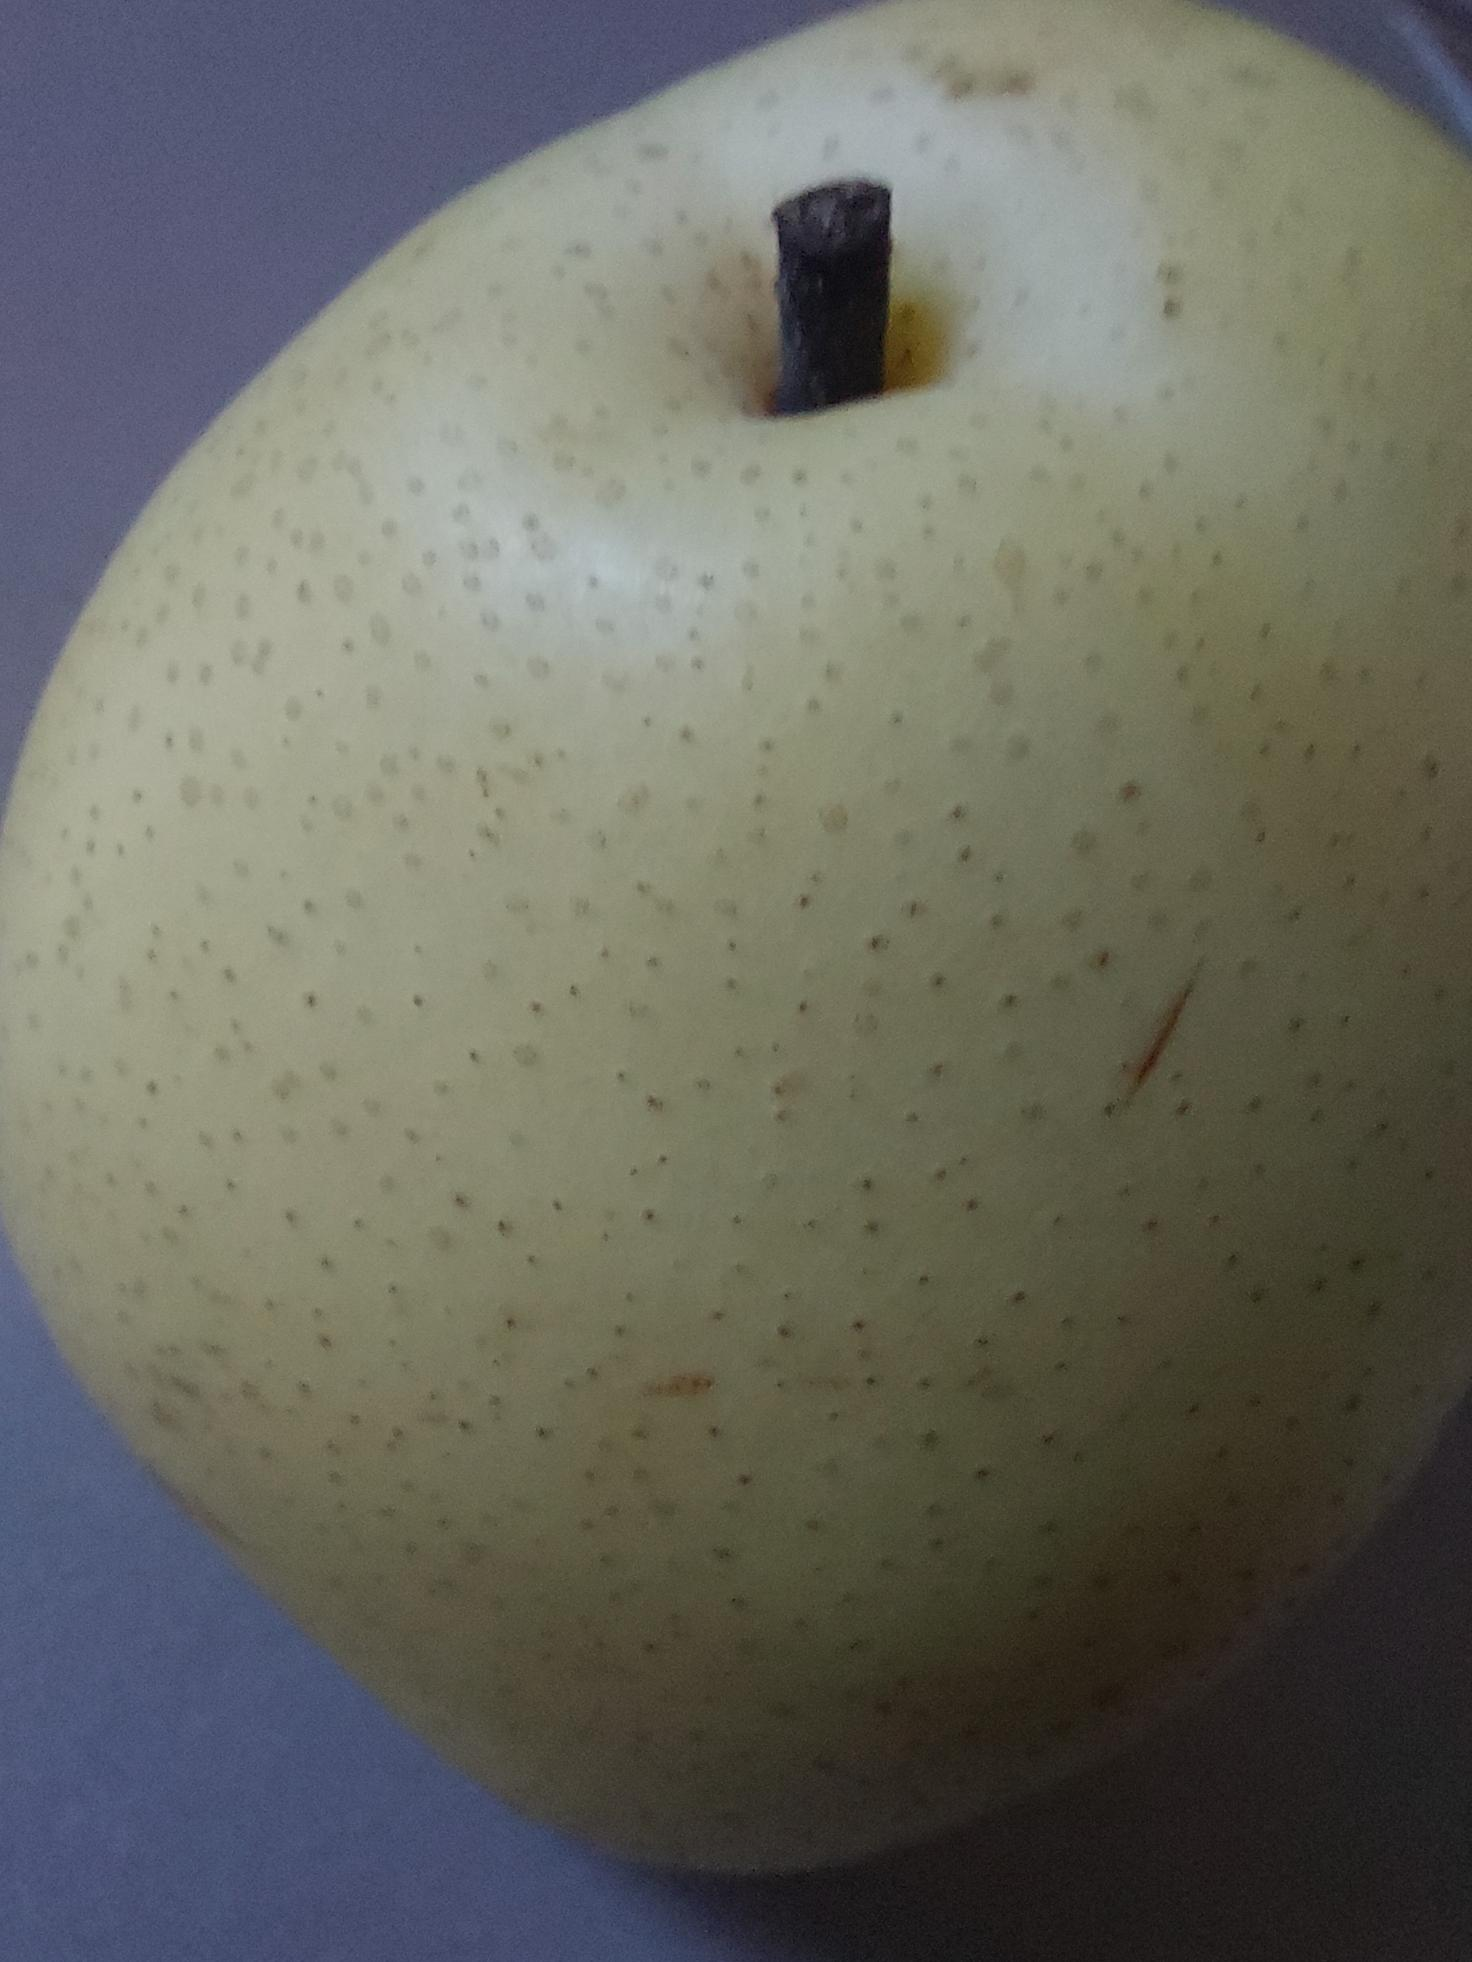Good Pear: (0, 0, 1470, 1953)
